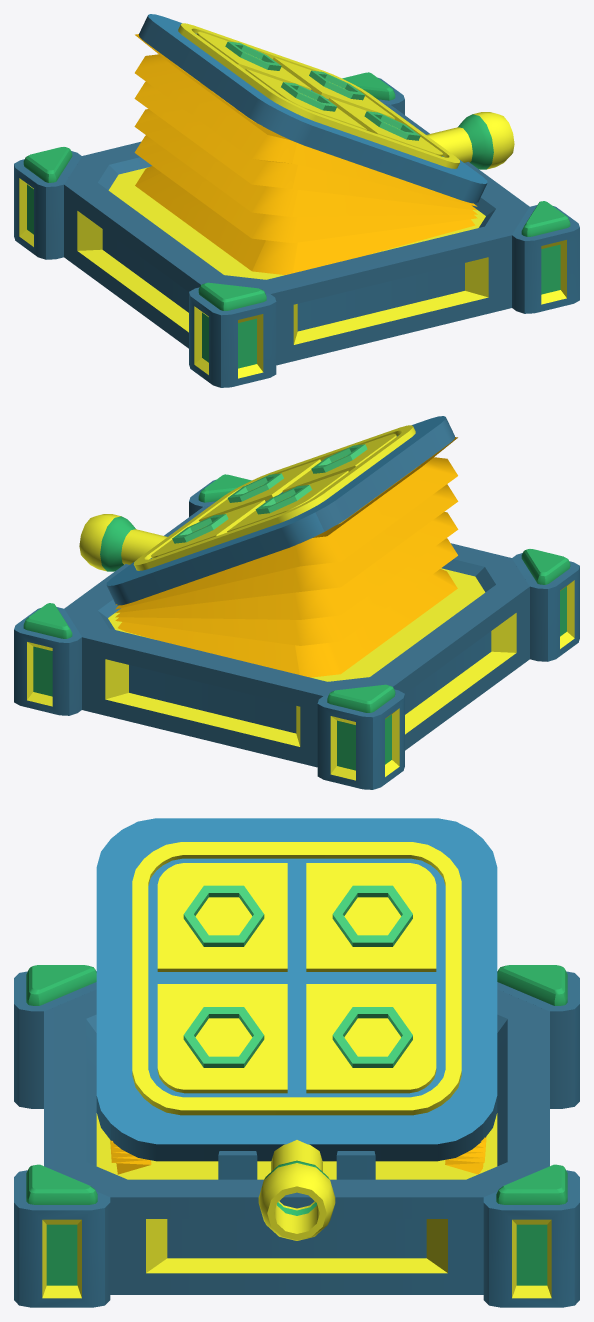
The model's file is island7.defense3.fbx.
The picture shows the model from 3 angles, top to bottom: view 1: azimuth 30°, elevation 25°; view 2: azimuth 150°, elevation 25°; view 3: azimuth 270°, elevation 25°; orthographic projection. The views are drawn at different scales.
Parts seen in each view (by area): view 1: island7-defense3, island7-defense3.01, island7-defense3.02; view 2: island7-defense3, island7-defense3.01, island7-defense3.02; view 3: island7-defense3.02, island7-defense3, island7-defense3.01.
Part boxes in pixels (x1,y1,x2,y2): island7-defense3: [14, 72, 579, 387]; island7-defense3.01: [134, 34, 477, 274]; island7-defense3.02: [139, 14, 487, 203]; island7-defense3: [14, 474, 579, 789]; island7-defense3.01: [115, 437, 458, 677]; island7-defense3.02: [106, 416, 454, 605]; island7-defense3.02: [96, 818, 497, 1161]; island7-defense3: [14, 965, 579, 1307]; island7-defense3.01: [110, 1136, 486, 1174].
Bounding box in the file's own units: 4.59 × 2.6 × 4.3.
Materials: 1 (1 with a texture image).
